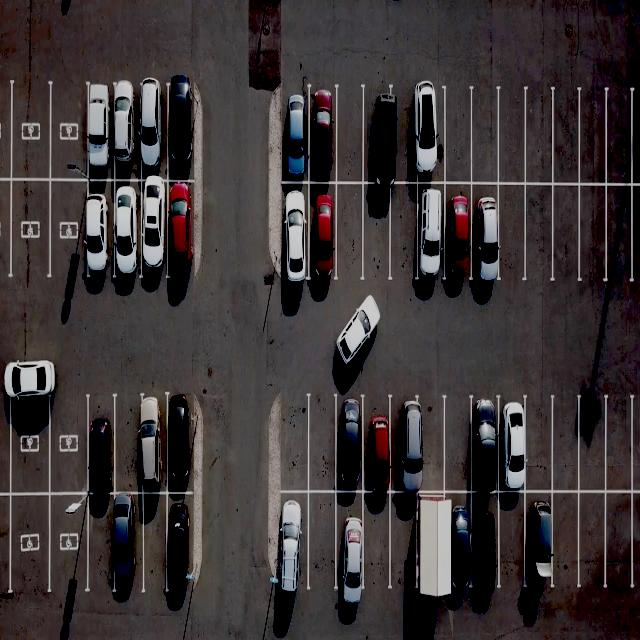empty: (9, 380, 50, 497), (49, 388, 91, 494), (6, 492, 48, 596), (8, 179, 48, 285), (8, 77, 49, 180), (49, 178, 88, 285), (113, 395, 154, 494), (307, 491, 343, 600), (492, 491, 529, 596), (411, 492, 447, 598), (546, 491, 583, 594), (358, 492, 393, 598), (51, 81, 88, 180), (604, 492, 639, 594), (604, 183, 638, 287), (572, 492, 607, 593), (525, 183, 558, 284), (386, 493, 419, 594), (574, 182, 606, 286), (83, 495, 116, 595), (549, 395, 583, 491), (550, 183, 582, 285), (605, 395, 638, 493), (575, 397, 608, 495), (277, 396, 310, 494), (496, 183, 528, 284), (605, 90, 638, 187), (336, 84, 368, 183), (574, 88, 607, 184), (525, 398, 558, 493), (440, 398, 473, 493), (306, 394, 338, 491), (526, 88, 558, 184), (335, 185, 366, 284), (550, 90, 582, 185), (416, 397, 448, 492), (140, 492, 170, 593), (390, 184, 421, 281), (498, 91, 529, 187), (360, 182, 391, 278), (470, 89, 501, 184), (441, 91, 471, 185), (394, 87, 421, 183)
occupied: (432, 493, 472, 602), (48, 492, 90, 594), (275, 489, 311, 598), (333, 486, 368, 594), (468, 489, 504, 594), (166, 395, 203, 493), (524, 487, 559, 590), (166, 180, 202, 280), (111, 495, 146, 597), (167, 494, 202, 596), (362, 84, 398, 183), (392, 396, 428, 494), (360, 399, 396, 496), (494, 399, 530, 494), (333, 397, 368, 494), (80, 178, 112, 284), (84, 397, 117, 498), (134, 396, 168, 494), (112, 176, 144, 280), (440, 181, 472, 284), (413, 89, 447, 185), (309, 182, 341, 284), (469, 398, 504, 491), (470, 183, 502, 284), (416, 183, 448, 283), (309, 86, 341, 186), (138, 179, 169, 282), (282, 182, 311, 287), (136, 83, 166, 181), (168, 83, 198, 181), (85, 82, 113, 180), (284, 86, 311, 185), (114, 83, 141, 180)
